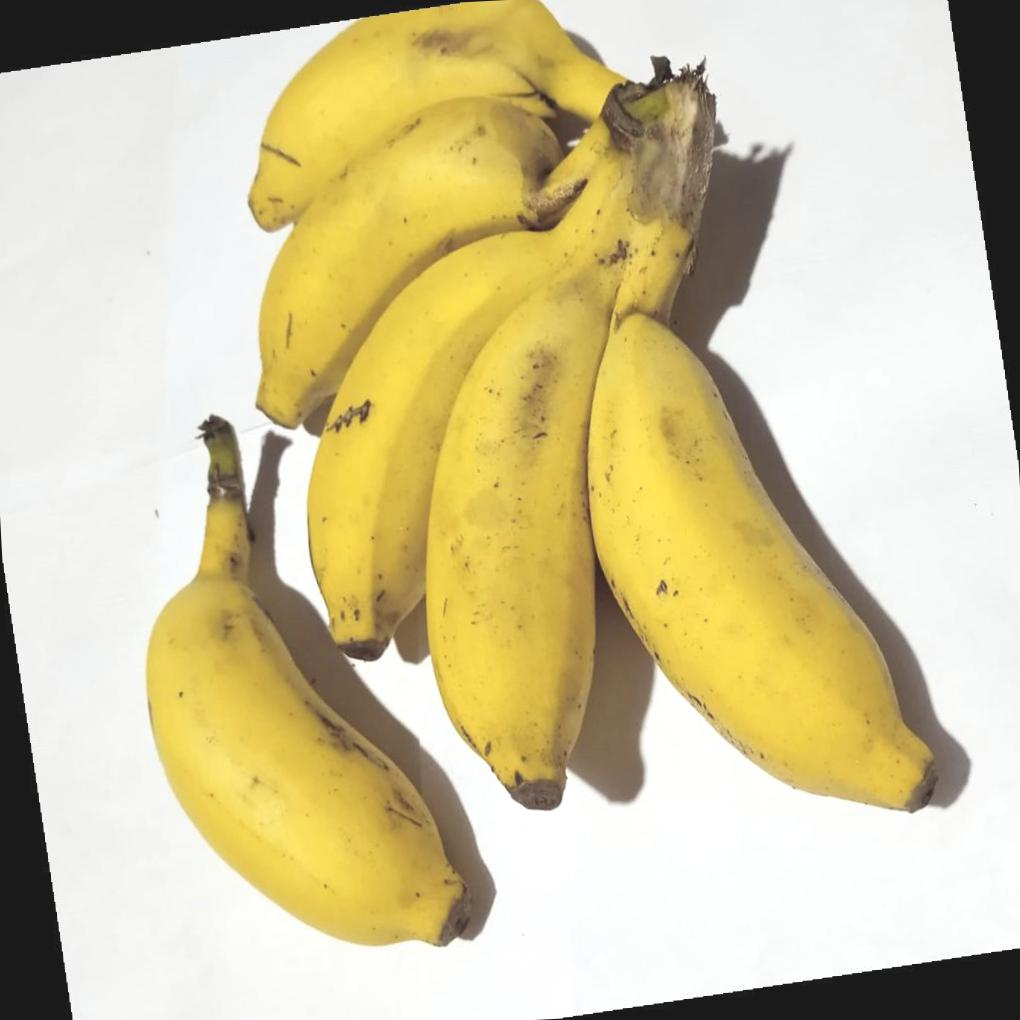Banana Ripe: (218, 0, 985, 875), (527, 229, 973, 846), (47, 329, 474, 960), (354, 128, 687, 870), (246, 34, 582, 438)
